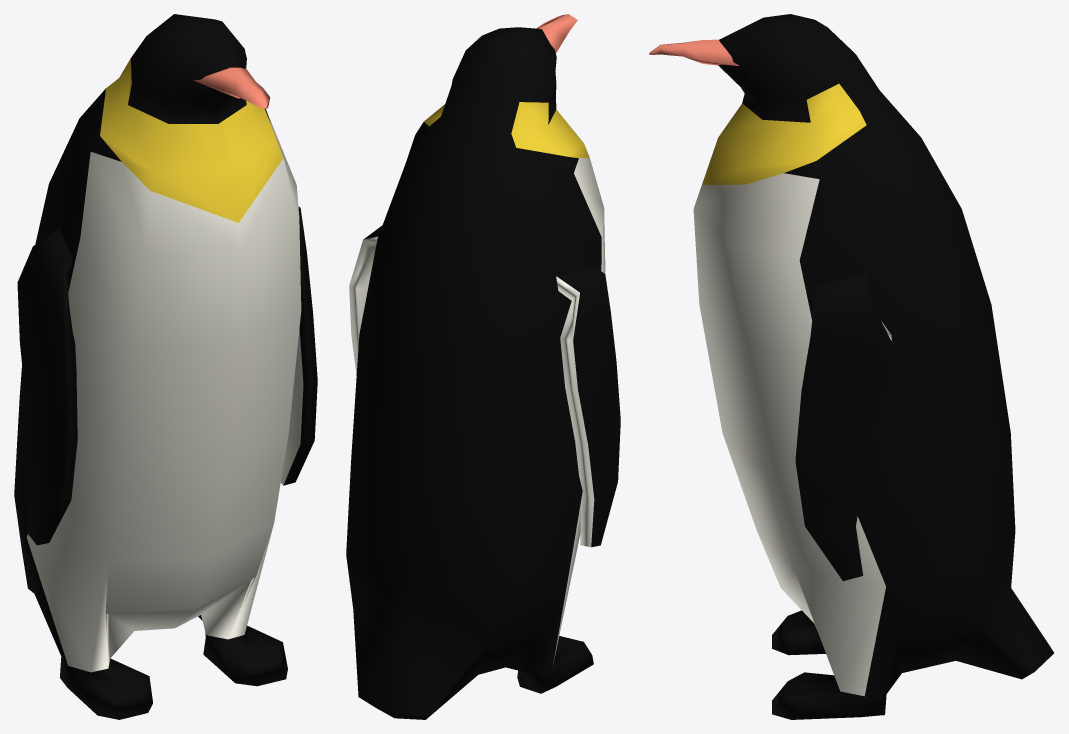
File: penguin(1).obj
The picture shows the model from 3 angles, left to right: view 1: azimuth 30°, elevation 25°; view 2: azimuth 150°, elevation 25°; view 3: azimuth 270°, elevation 25°; orthographic projection. The views are drawn at different scales.
Bounding box in the file's own units: 33.1 × 82.34 × 46.09.
